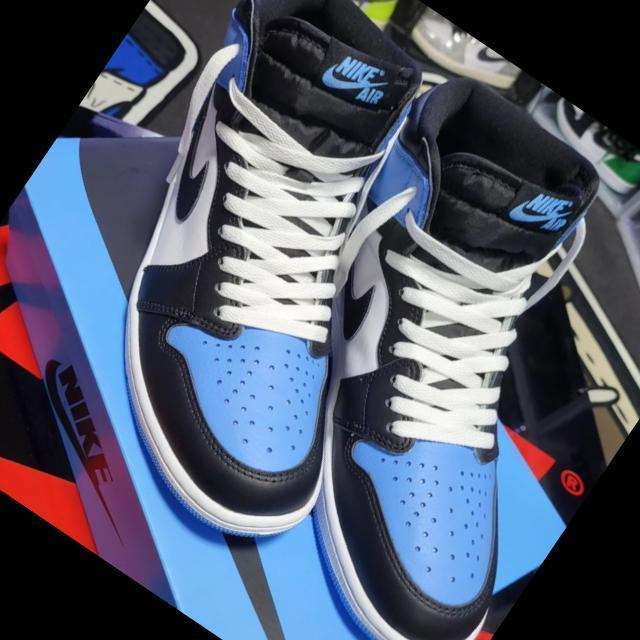nike original jordan 1: (0, 0, 562, 574), (146, 50, 640, 640)
